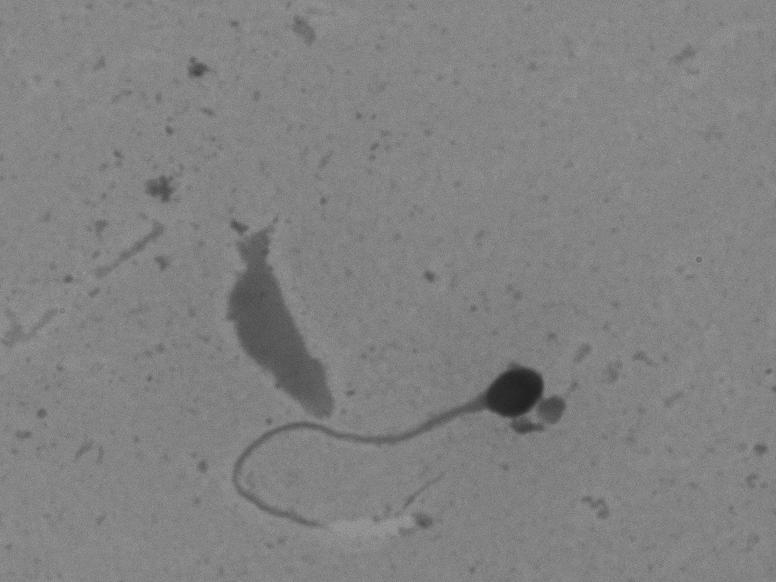Abnormal: (214, 355, 552, 538)
